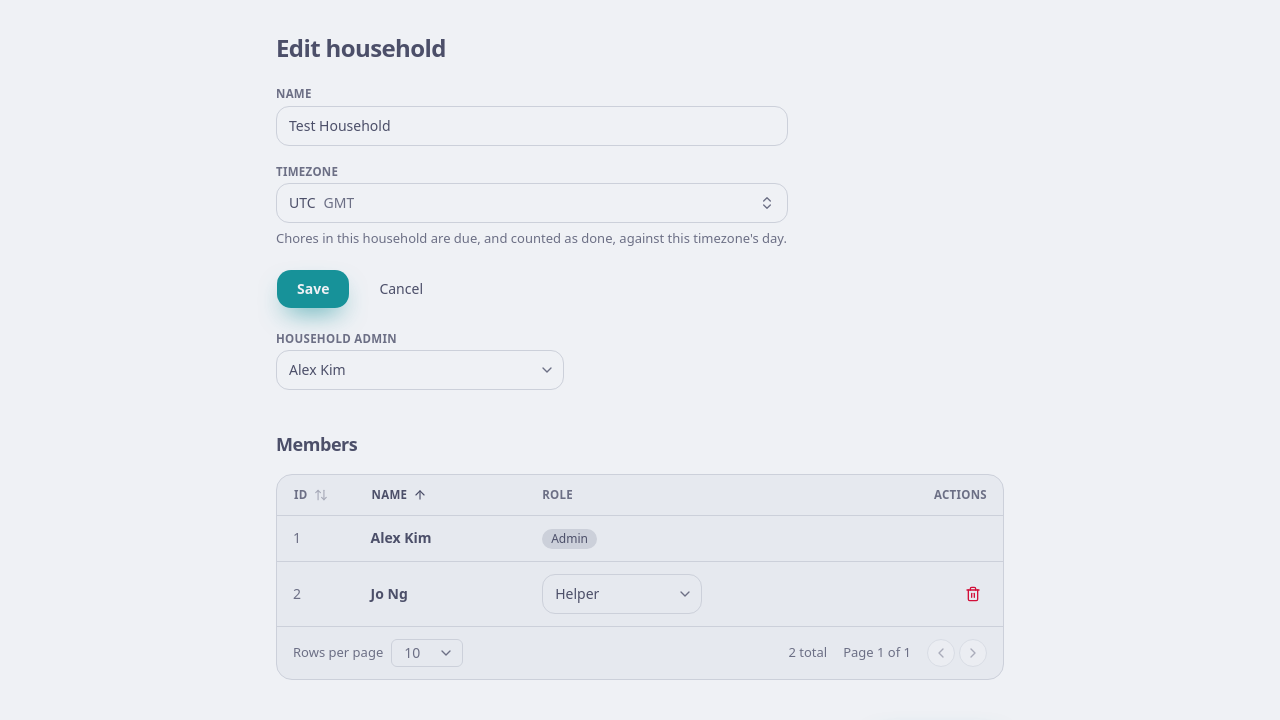
HouseholdEdit › names the member and the new role in the confirmation
The width and height of the screenshot is (1280, 720).
Expected: the text "Jo Ng" is shown, [371,584,408,602]
What coordinates should you click on to do the following:
click the dropdown named "Role for Jo Ng"
I would click on:
 (622, 594)
Its box is [542,574,702,614].
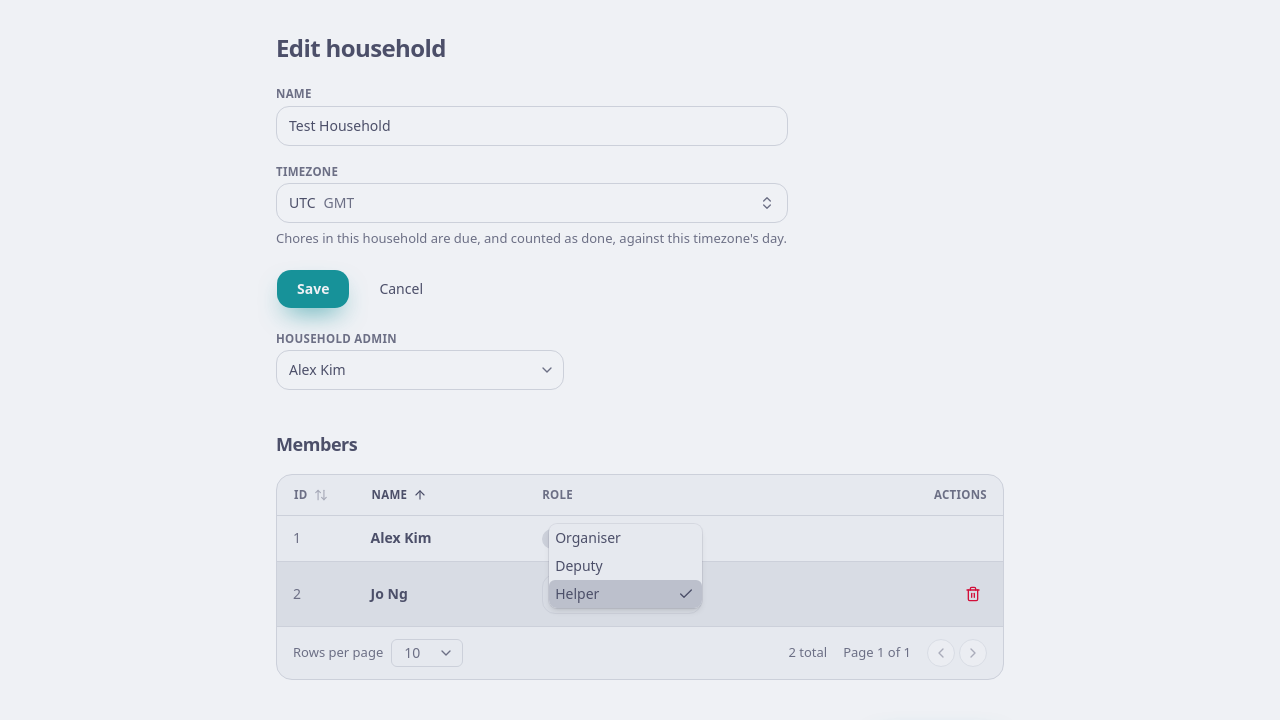
What coordinates should you click on to do the following:
click the option "Deputy"
I would click on:
 (579, 565)
Its box is [555,556,603,574].
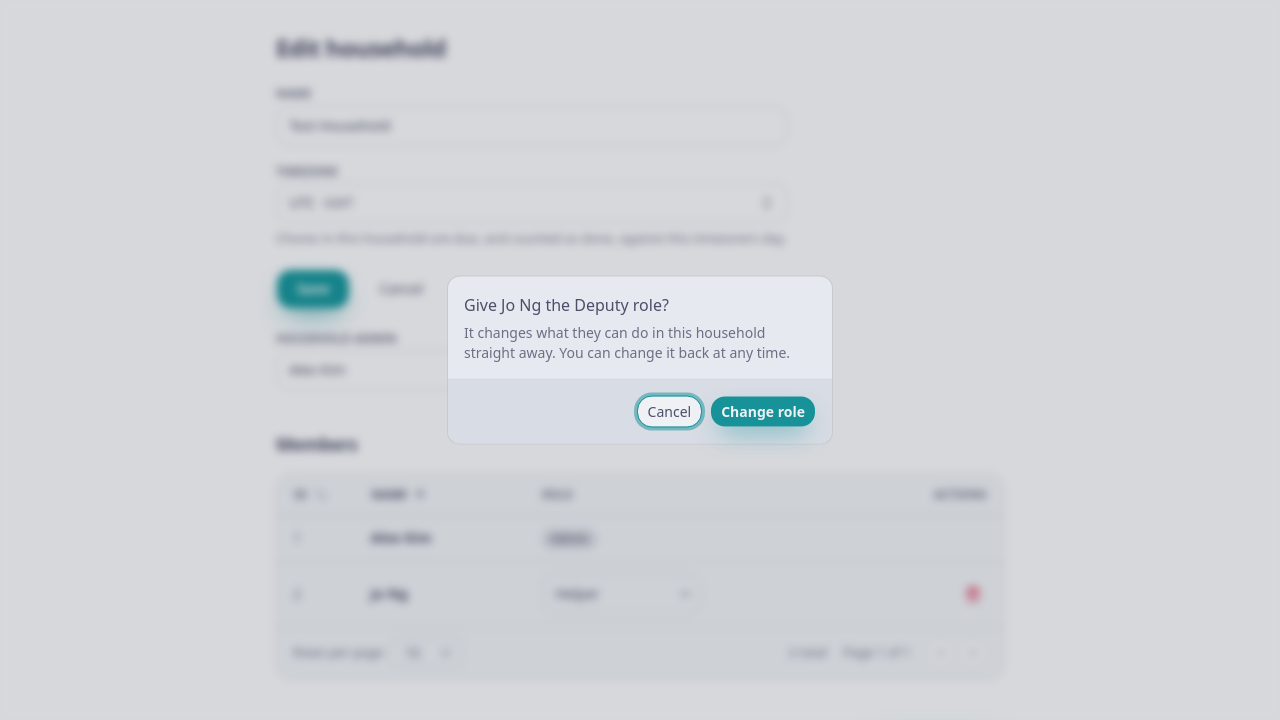
Now the heading "Give Jo Ng the Deputy role?" is shown, box [464,292,669,316]
